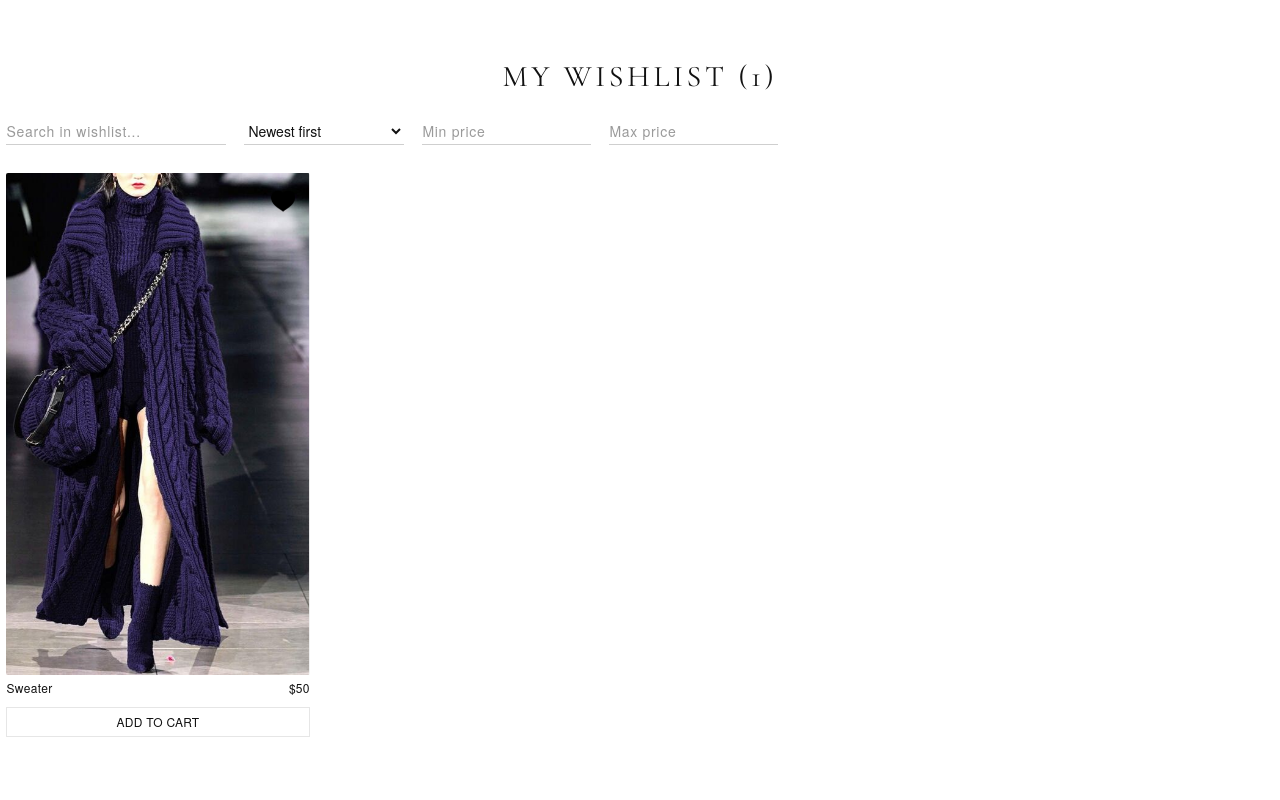
WishList - notify me for out-of-stock items › posts to subscribe_back_in_stock when NOTIFY ME is clicked
This screenshot has width=1280, height=800.
Expected: the text "Sweater" is shown, [6,681,53,695]
Click the button "ADD TO CART" at (158, 722), box [6,707,310,737]
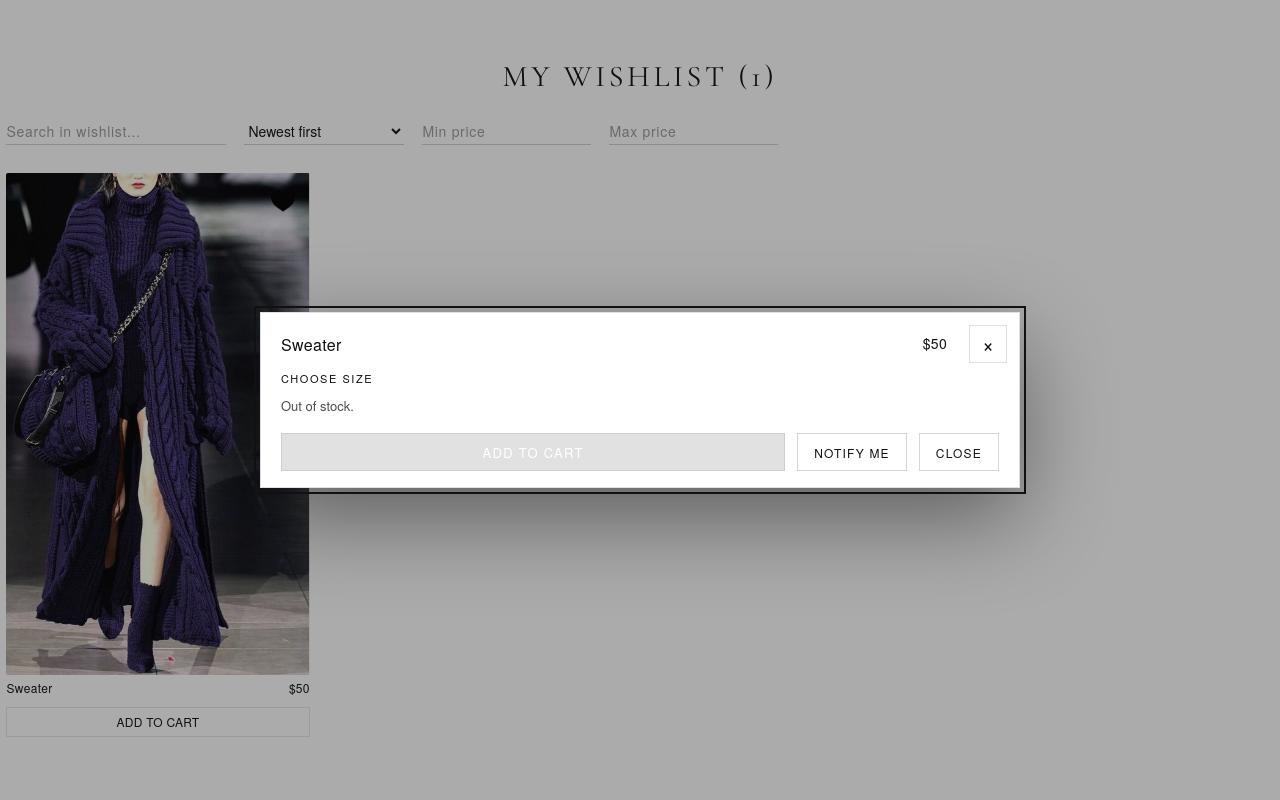
Click the button "NOTIFY ME" at (852, 452), box [797,433,907,471]
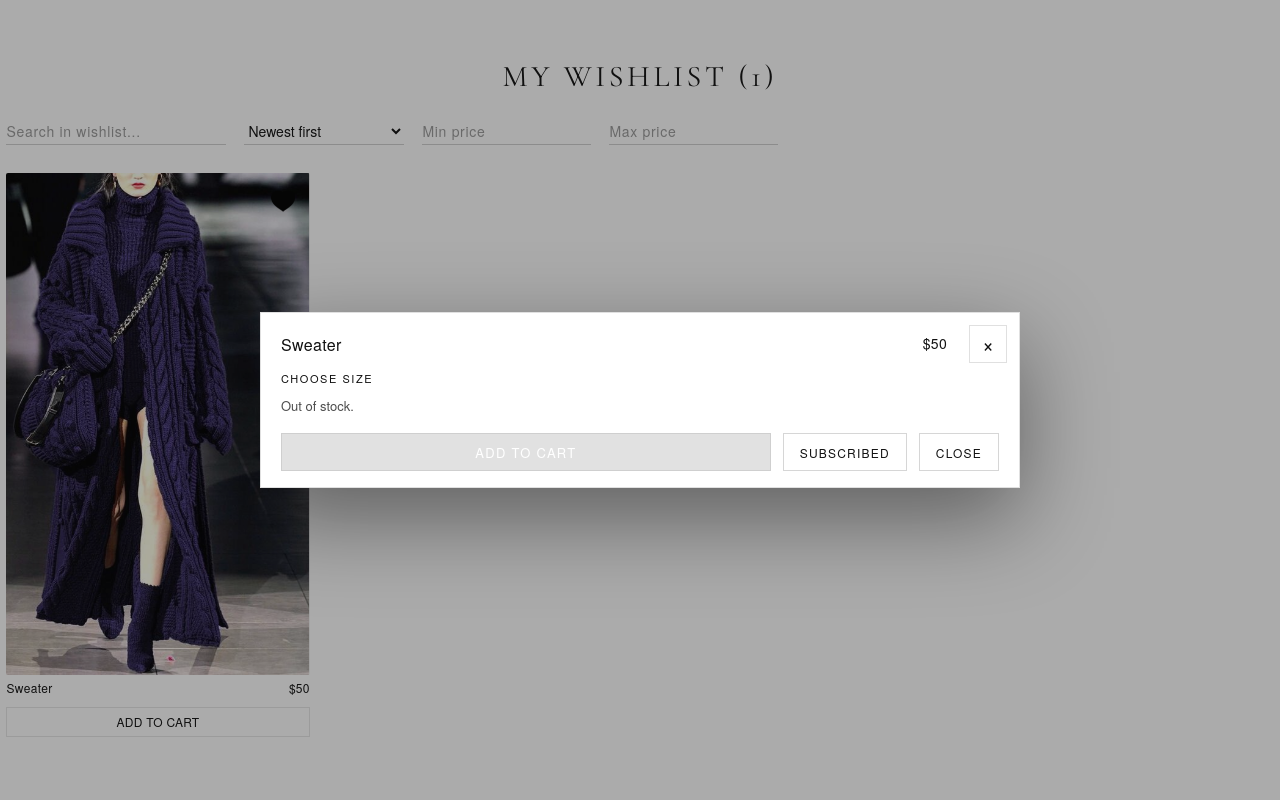
Result: the button "SUBSCRIBED" is shown at [783,433,907,471]
